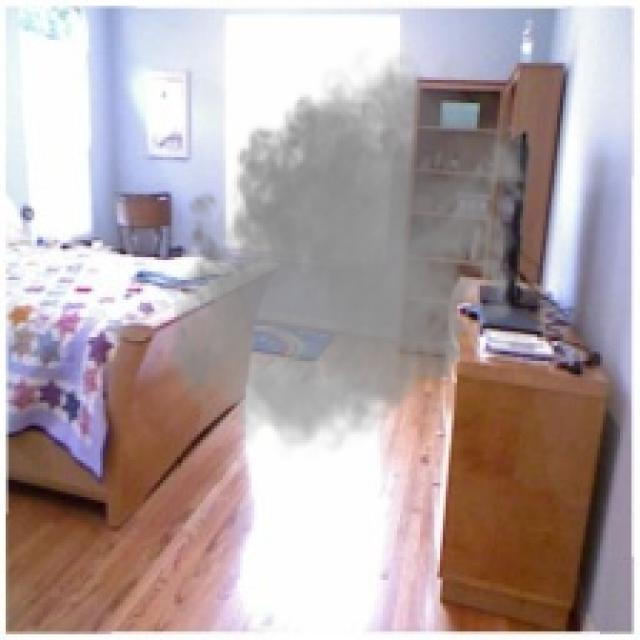smoke: (163, 40, 540, 460)
